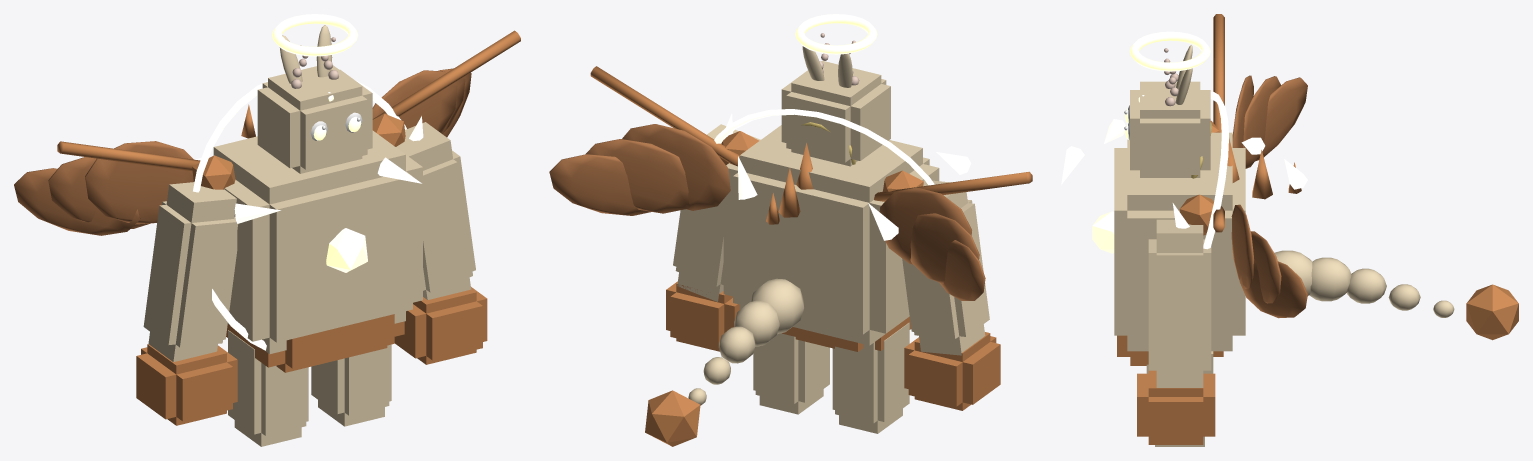
File: desert_totem_10.glb
The picture shows the model from 3 angles, left to right: view 1: azimuth 30°, elevation 25°; view 2: azimuth 150°, elevation 25°; view 3: azimuth 270°, elevation 25°; orthographic projection. The views are drawn at different scales.
Parts seen in each view (by area): view 1: box; view 2: box; view 3: box.
Boxes of the visible parts, bbox=[...] form: box: bbox=[14, 14, 520, 446]; box: bbox=[549, 14, 1032, 446]; box: bbox=[1061, 14, 1518, 446].
Bounding box in the file's own units: 2.56 × 2.1 × 2.34.
